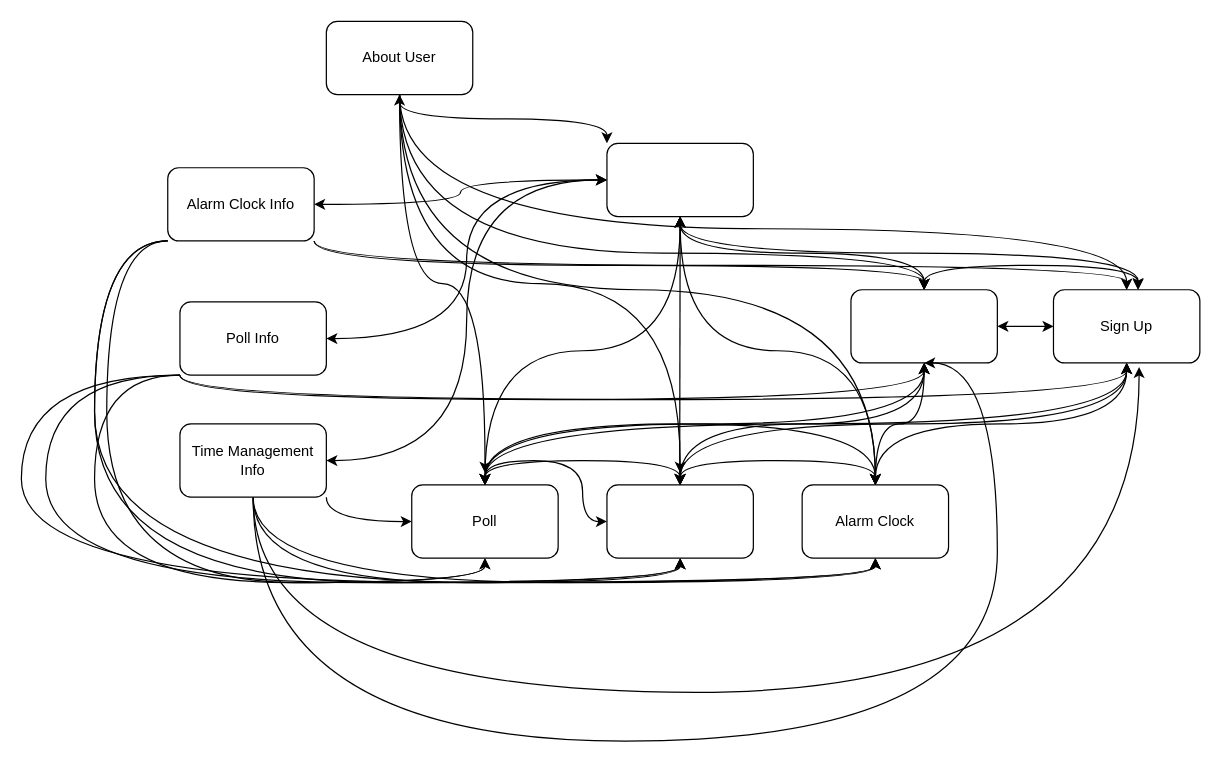
Image size: 1221x763. Some labels were removed from this diagram. The centre of each missing label's shape, as x and y in pixels:
Home: (679,179)
Log In: (923,326)
Time Management: (679,521)
